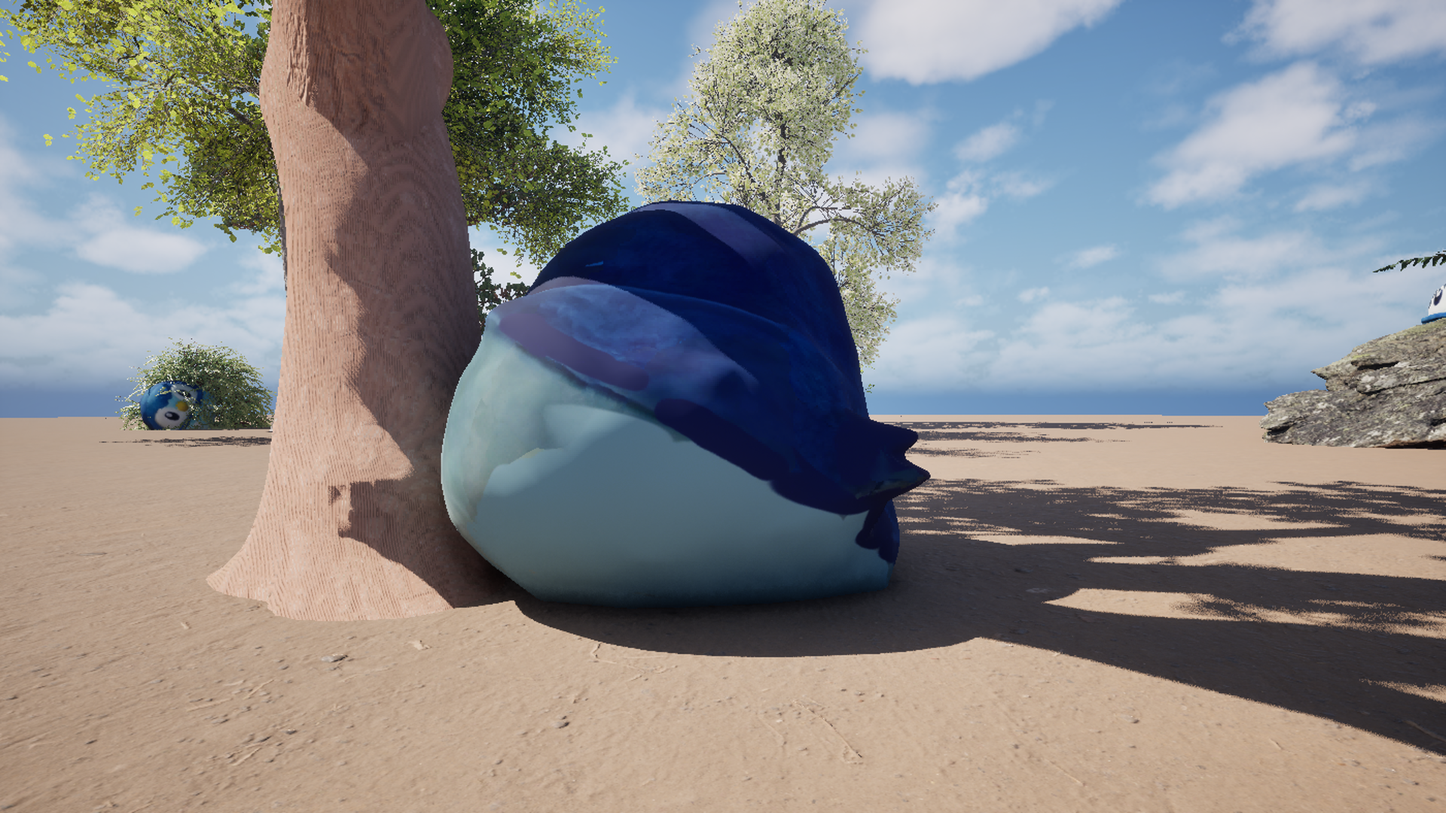Piplup: (58, 0, 1202, 813)
